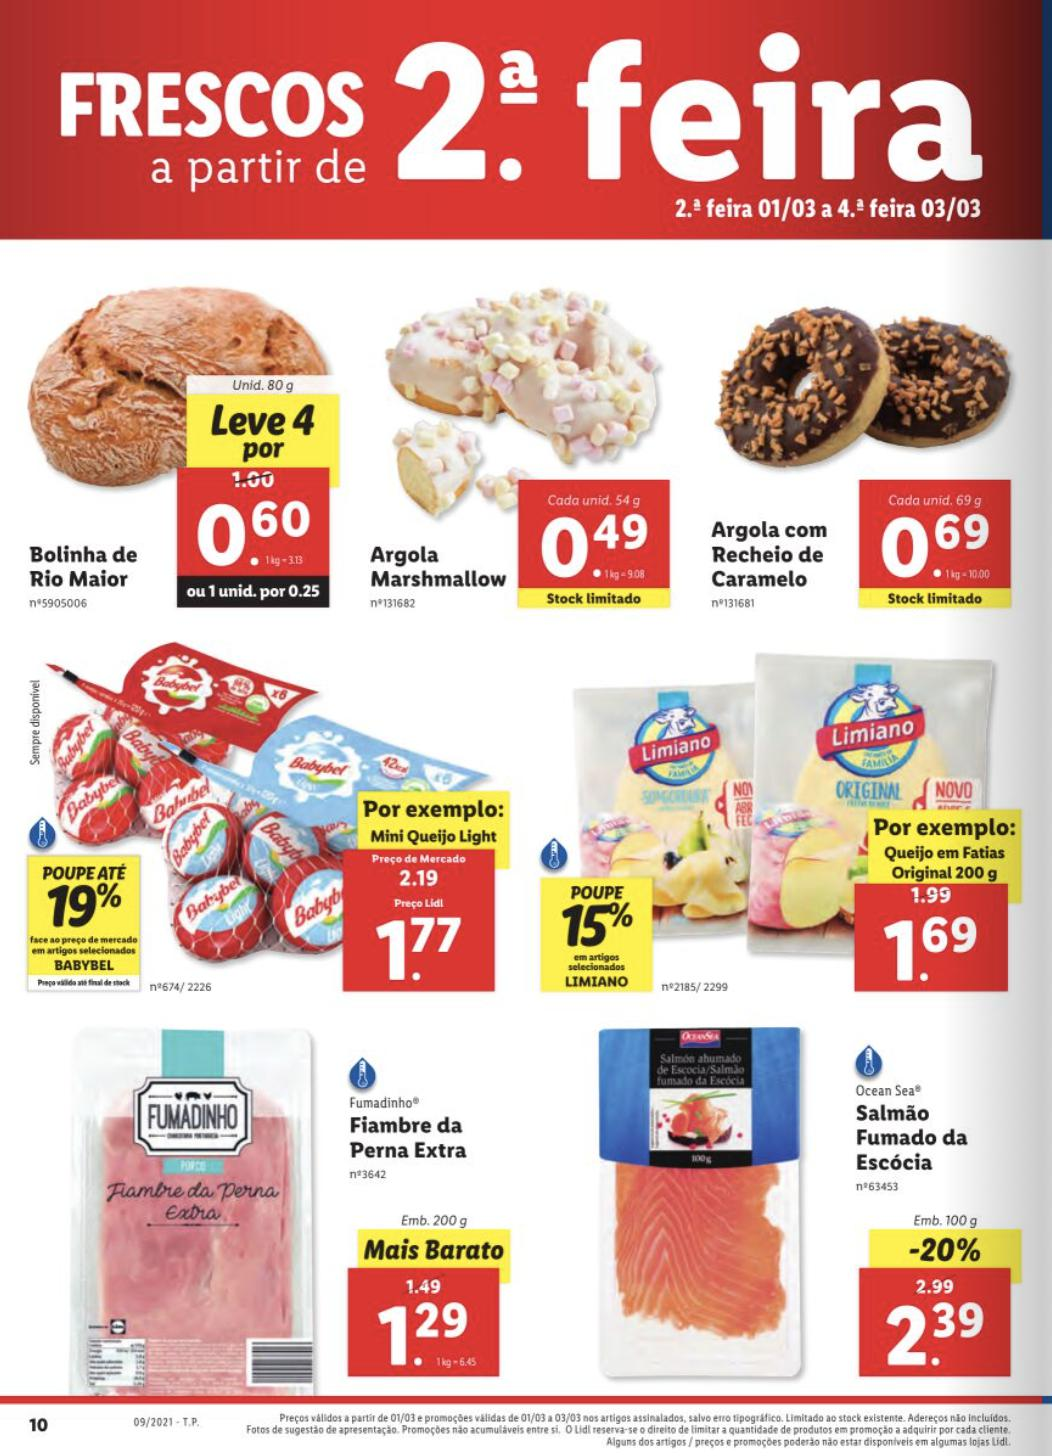name: (711, 514, 836, 598), (851, 1102, 971, 1182), (362, 541, 507, 596), (346, 1111, 473, 1167), (29, 541, 147, 593)
price: (531, 500, 666, 583), (883, 505, 996, 586), (200, 496, 316, 572), (373, 907, 476, 987), (884, 905, 979, 987), (886, 1298, 986, 1373), (376, 1300, 480, 1372)
product: (538, 632, 1035, 1005), (16, 643, 511, 1007), (46, 1019, 507, 1396), (582, 1016, 1024, 1383), (358, 262, 693, 636), (693, 272, 1033, 636), (21, 260, 347, 625)
promotion: (38, 876, 127, 931), (556, 900, 642, 954), (906, 1232, 986, 1271)
